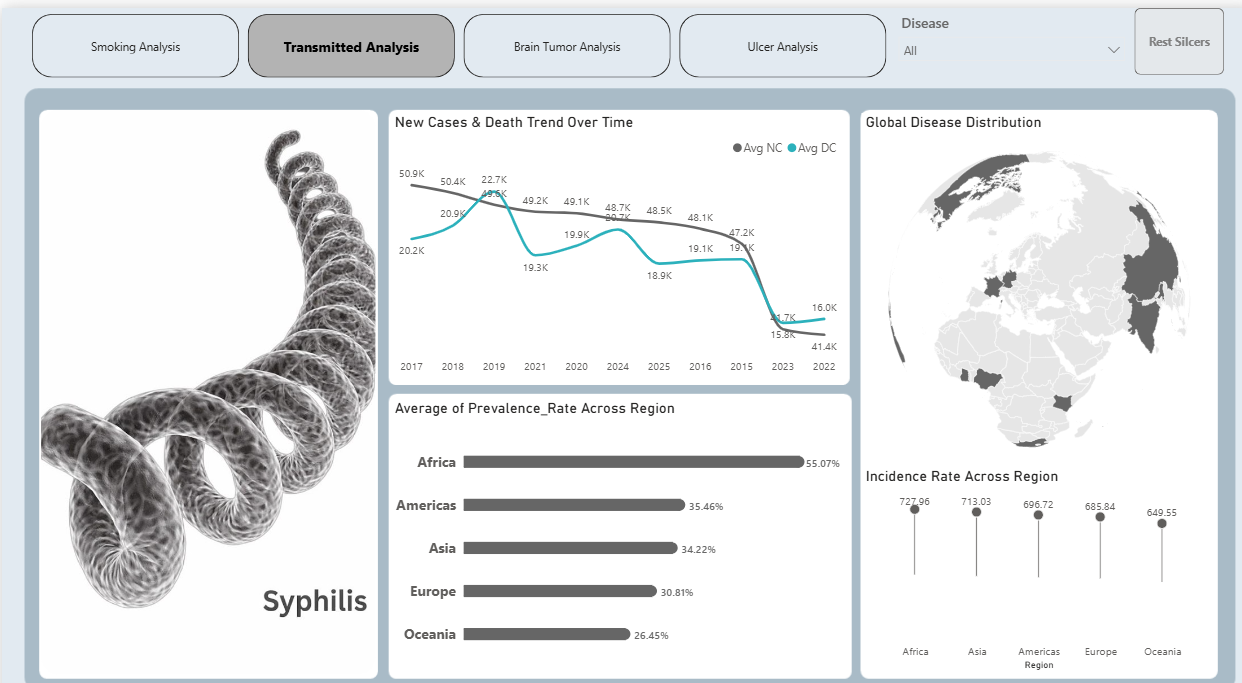

What the dashboard file says about the page in this screenshot:
{"tool":"powerbi","page":{"name":"Transmitted Analysis ","canvas":[1440,810],"ordinal":1},"visuals":[{"type":"slicer","fields":{"Values":["Health Image Dataset.Disease"]},"box":[1020.3,0,279.7,84.1],"z":0},{"type":"image","box":[44.4,117.8,384.4,648.9],"z":1000},{"type":"lineChart","title":"New Cases & Death Trend  Over Time","fields":{"Category":["Health Dataset.Year"],"Y":["Avg(Health Dataset.New_Cases)"],"Y2":["Avg(Health Dataset.Deaths)"]},"box":[446.7,120,522.2,308.9],"z":2000},{"type":"clusteredBarChart","title":"Average of Prevalence_Rate Across Region","fields":{"Y":["Avg(Health Dataset.Prevalence_Rate)"],"Category":["Health Dataset.Region"]},"box":[447.2,450.6,524.7,314.6],"z":3000},{"type":"shapeMap","title":"Global Disease Distribution","fields":{"Category":["Health Dataset.Country"]},"box":[987.6,120.2,407.9,407.9],"z":4000},{"type":"clusteredColumnChart","title":"Incidence Rate Across Region","fields":{"Category":["Health Dataset.Region"],"Y":["Avg(Health Dataset.Incidence_Rate)"]},"box":[987.6,528.1,407.9,238.2],"z":5000},{"type":"pageNavigator","box":[34.8,7.2,985.5,73.9],"z":6000},{"type":"actionButton","box":[1301.4,0,102.9,76.8],"z":7000}]}

Visuals, with their boxes in screenshot pixels (x1, y1, x2, y2), scaled from the page's 1440x810 canvas onto the 1242x683 screenshot:
slicer - Health Image Dataset.Disease: {"x1": 880, "y1": 0, "x2": 1121, "y2": 71}
image: {"x1": 38, "y1": 99, "x2": 370, "y2": 646}
"New Cases & Death Trend  Over Time" lineChart: {"x1": 385, "y1": 101, "x2": 836, "y2": 362}
"Average of Prevalence_Rate Across Region" clusteredBarChart: {"x1": 386, "y1": 380, "x2": 838, "y2": 645}
"Global Disease Distribution" shapeMap: {"x1": 852, "y1": 101, "x2": 1204, "y2": 445}
"Incidence Rate Across Region" clusteredColumnChart: {"x1": 852, "y1": 445, "x2": 1204, "y2": 646}
pageNavigator: {"x1": 30, "y1": 6, "x2": 880, "y2": 68}
actionButton: {"x1": 1122, "y1": 0, "x2": 1211, "y2": 65}
